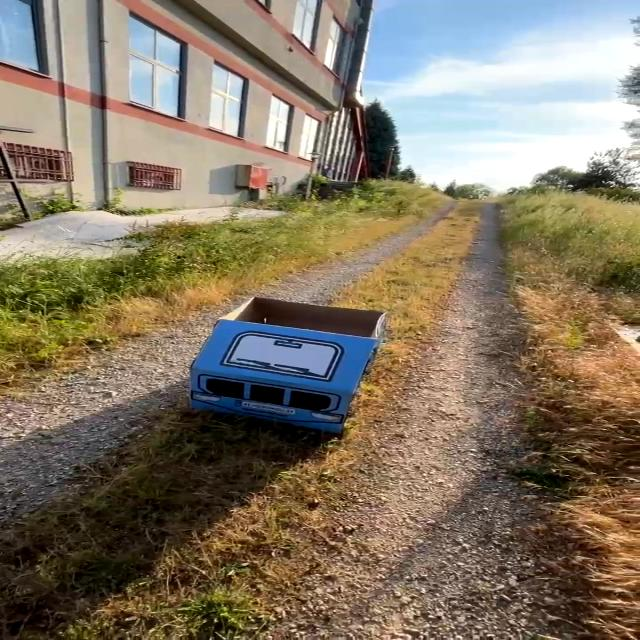blue_car: (128, 284, 445, 474)
